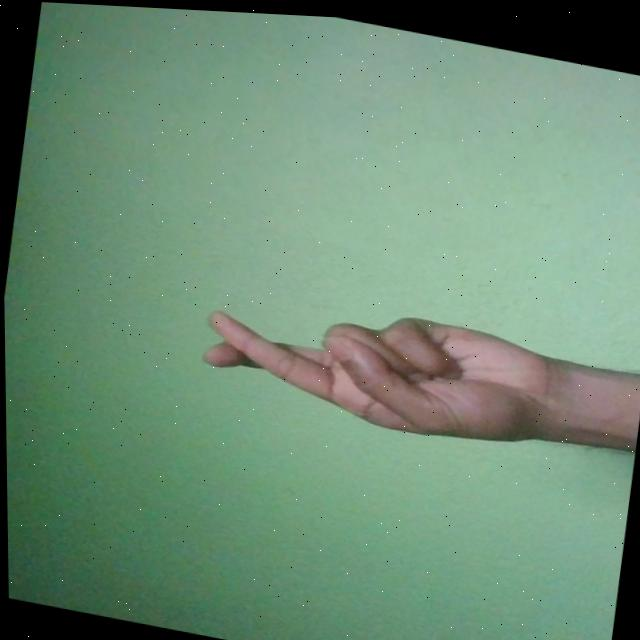Good Luck: (193, 275, 566, 455)
